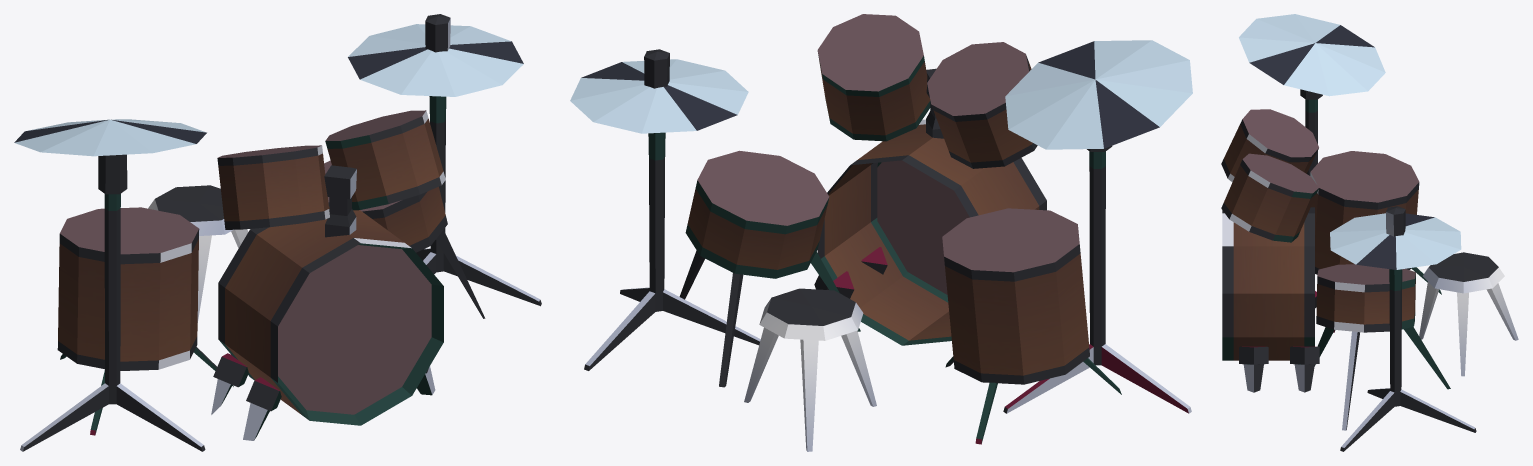
File: CMS_InstrumentDrumKit.fbx
The picture shows the model from 3 angles, left to right: view 1: azimuth 30°, elevation 25°; view 2: azimuth 150°, elevation 25°; view 3: azimuth 270°, elevation 25°; orthographic projection. The views are drawn at different scales.
Visible parts, largest first — view 1: InstrumentDrumKit; view 2: InstrumentDrumKit; view 3: InstrumentDrumKit.
Boxes of the visible parts, <box> form: InstrumentDrumKit: <box>14,14,541,451</box>; InstrumentDrumKit: <box>570,14,1192,451</box>; InstrumentDrumKit: <box>1221,14,1518,451</box>.
Bounding box in the file's own units: 1321 × 738 × 805.
